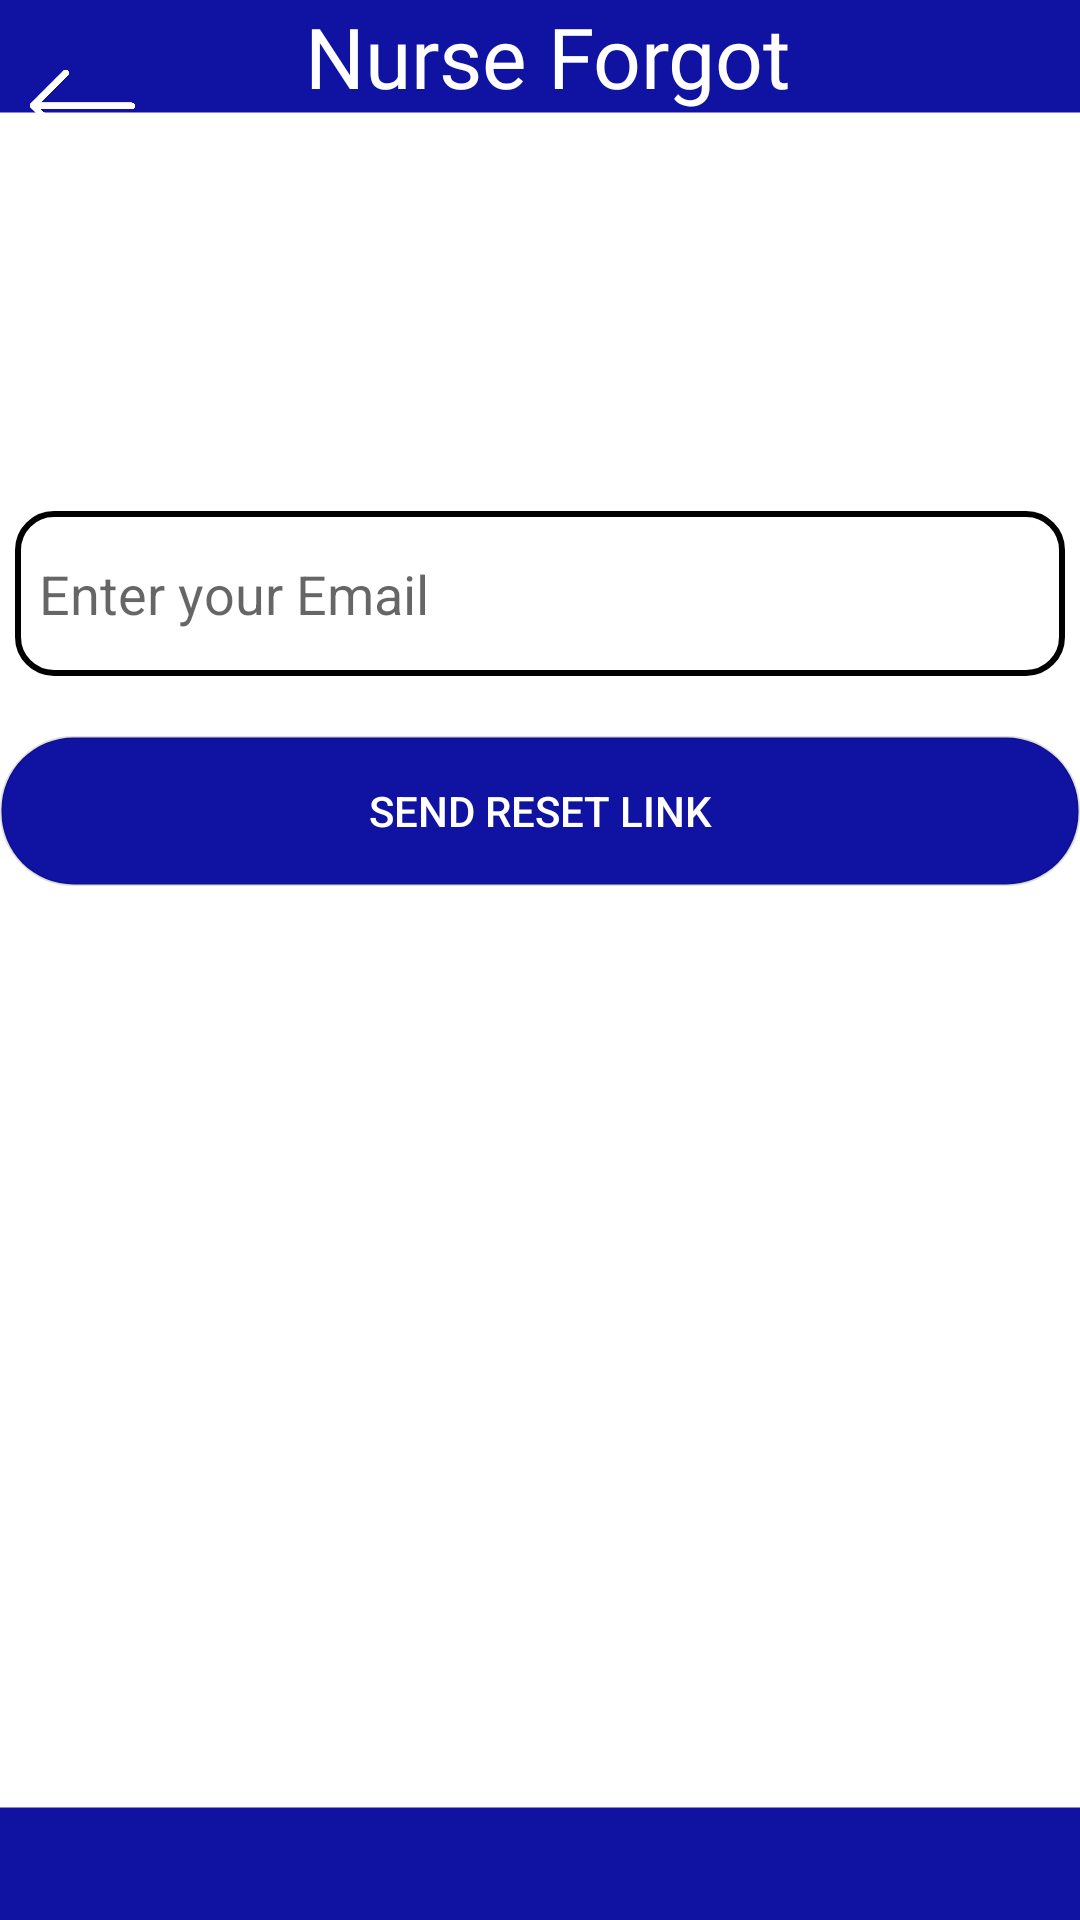

Icon click points for this 1080 x 1920 phone screenshot, format (x=x, y=y):
back: (x=82, y=105)
